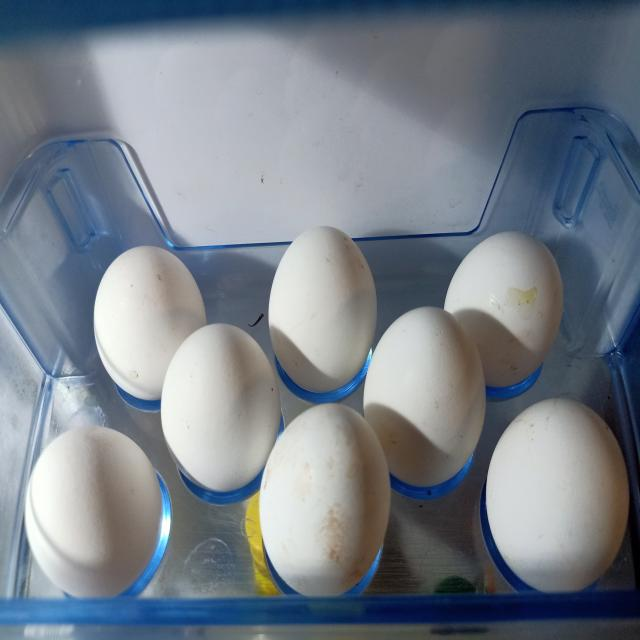Egg: (481, 389, 638, 599), (253, 385, 397, 593), (16, 412, 166, 600), (154, 310, 294, 502), (79, 236, 216, 432), (362, 304, 489, 486), (439, 236, 576, 402), (257, 214, 380, 396)
